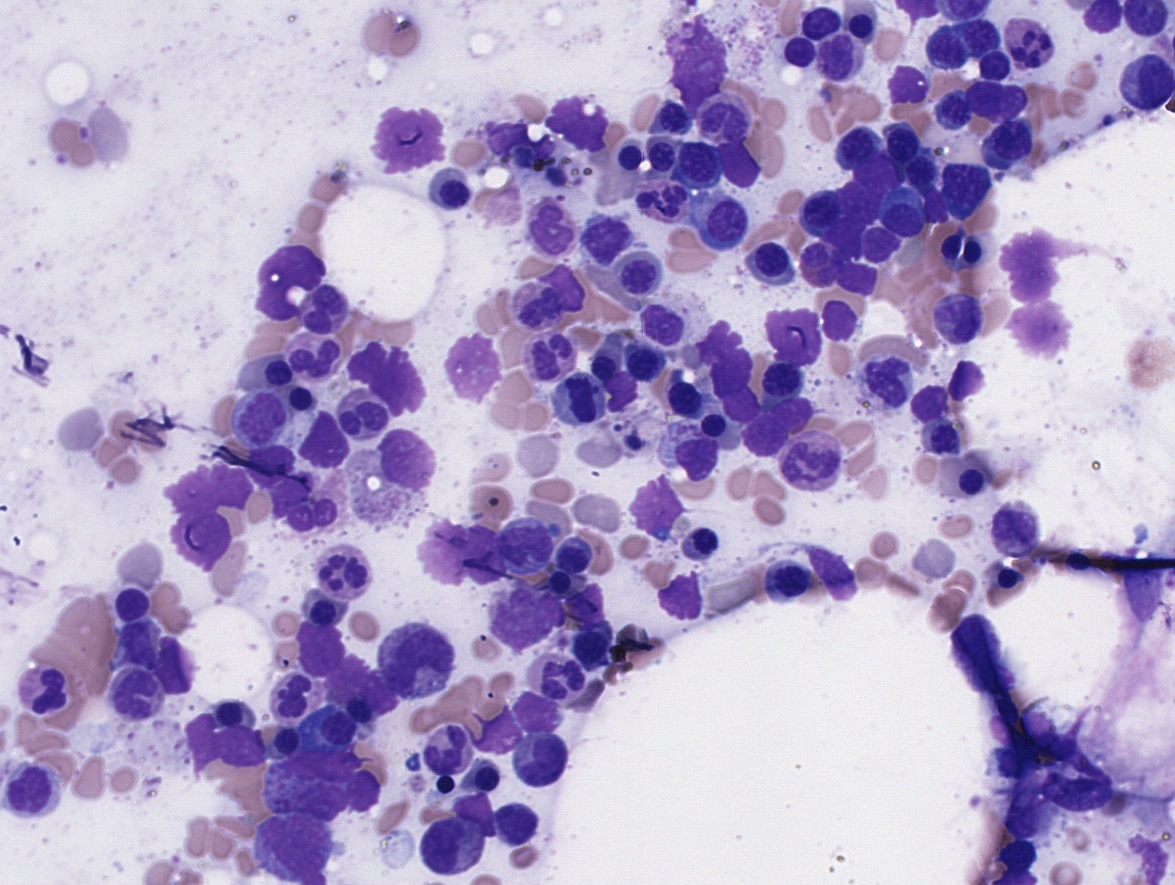objectness: (701, 194, 751, 244), (878, 191, 928, 241), (309, 702, 359, 752), (859, 352, 909, 402), (235, 388, 285, 438), (788, 429, 838, 479), (527, 644, 577, 694), (518, 331, 568, 381), (1007, 27, 1057, 77), (297, 337, 347, 387), (648, 174, 698, 224), (512, 281, 562, 331), (431, 729, 481, 779), (268, 671, 318, 721), (325, 548, 375, 598), (701, 80, 751, 130), (297, 279, 347, 329), (29, 667, 79, 717), (342, 390, 392, 440), (989, 499, 1039, 549), (810, 30, 860, 80), (415, 821, 465, 871), (794, 236, 844, 286), (519, 737, 569, 787), (933, 289, 983, 339), (100, 667, 150, 717), (268, 818, 318, 868), (387, 630, 437, 680), (163, 468, 213, 518), (203, 460, 253, 510), (550, 96, 600, 146), (452, 336, 502, 386), (250, 249, 300, 299), (176, 523, 226, 573), (740, 409, 790, 459), (149, 641, 199, 691), (908, 376, 958, 426), (302, 627, 352, 677), (470, 710, 520, 760), (853, 217, 903, 267), (336, 763, 386, 813), (626, 296, 676, 346), (830, 182, 880, 232), (985, 552, 1035, 602), (541, 262, 591, 312), (653, 575, 703, 625), (113, 620, 163, 670), (669, 41, 719, 91), (362, 347, 412, 397), (580, 213, 630, 263), (483, 111, 533, 161), (771, 25, 821, 75), (382, 113, 432, 163), (811, 292, 861, 342), (380, 430, 430, 480), (968, 73, 1018, 123), (330, 658, 380, 708), (940, 356, 990, 406), (243, 435, 293, 485), (769, 311, 819, 361), (298, 417, 348, 467), (715, 136, 765, 186), (971, 39, 1021, 89), (816, 212, 866, 262), (451, 782, 501, 832), (441, 523, 491, 573), (545, 531, 595, 581), (853, 143, 903, 193), (718, 377, 768, 427), (334, 688, 384, 738), (522, 203, 572, 253), (773, 389, 823, 439), (628, 486, 678, 536), (827, 257, 877, 307), (193, 718, 243, 768), (108, 580, 158, 630), (695, 319, 745, 369), (671, 428, 721, 478), (813, 546, 863, 596), (536, 553, 586, 603), (494, 599, 544, 649), (300, 486, 350, 536), (880, 56, 930, 106), (5, 765, 55, 815), (909, 181, 959, 231), (489, 800, 539, 850), (829, 119, 879, 169), (274, 373, 324, 423), (296, 588, 346, 638), (263, 717, 313, 767), (249, 345, 299, 395), (660, 369, 710, 419), (949, 224, 999, 274), (926, 84, 976, 134), (463, 754, 513, 804), (636, 131, 686, 181), (919, 22, 969, 72), (581, 342, 631, 392), (745, 234, 795, 284), (646, 91, 696, 141), (875, 117, 925, 167), (755, 353, 805, 403), (796, 186, 846, 236), (895, 145, 945, 195), (926, 221, 976, 271), (938, 156, 988, 206), (676, 516, 726, 566), (986, 115, 1036, 165), (946, 458, 996, 508), (616, 337, 666, 387), (611, 251, 661, 301), (672, 136, 722, 186), (689, 397, 739, 447), (427, 167, 477, 217), (958, 6, 1008, 56), (565, 621, 615, 671), (767, 556, 817, 606), (203, 688, 253, 738), (606, 133, 656, 183), (919, 413, 969, 463), (294, 754, 344, 804), (834, 0, 884, 48), (798, 0, 848, 47), (1132, 56, 1175, 106), (1119, 0, 1169, 42), (1079, 0, 1129, 40)
